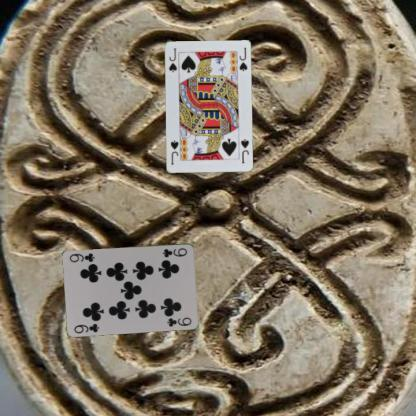9c: (72, 320, 100, 335), (160, 246, 188, 258)
Js: (238, 136, 250, 164), (166, 46, 178, 72)
